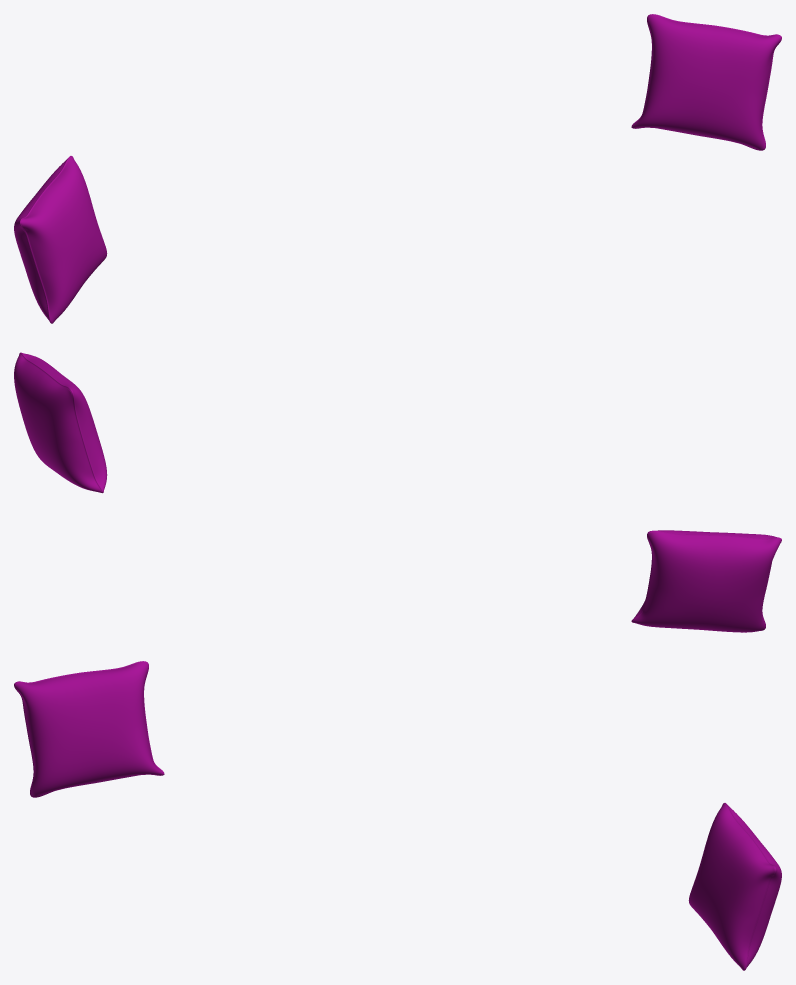
File: HP_Coussin_Moyen.fbx
The picture shows the model from 3 angles, top to bottom: view 1: azimuth 30°, elevation 25°; view 2: azimuth 150°, elevation 25°; view 3: azimuth 330°, elevation 25°; orthographic projection.
Visible parts, largest first — view 1: HP_Coussin_Moyen; view 2: HP_Coussin_Moyen; view 3: HP_Coussin_Moyen.
Boxes of the visible parts, x1,y1,x2,y2 form: HP_Coussin_Moyen: [14, 14, 781, 323]; HP_Coussin_Moyen: [14, 352, 781, 632]; HP_Coussin_Moyen: [14, 661, 781, 970].
Bounding box in the file's own units: 320 × 47.44 × 35.79.
